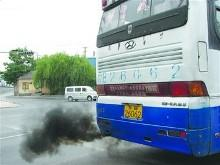smoke: (19, 106, 103, 161)
